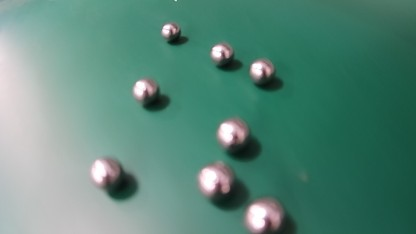ironball: (197, 161, 234, 201), (245, 198, 285, 234), (90, 157, 124, 191), (217, 117, 250, 152), (132, 78, 160, 105), (249, 59, 274, 85), (210, 42, 234, 66), (161, 22, 181, 41)
